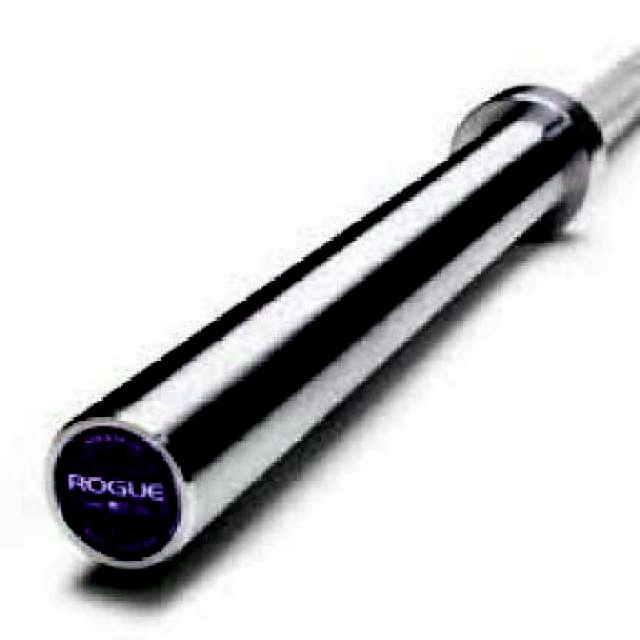barbell: (29, 80, 609, 595)
